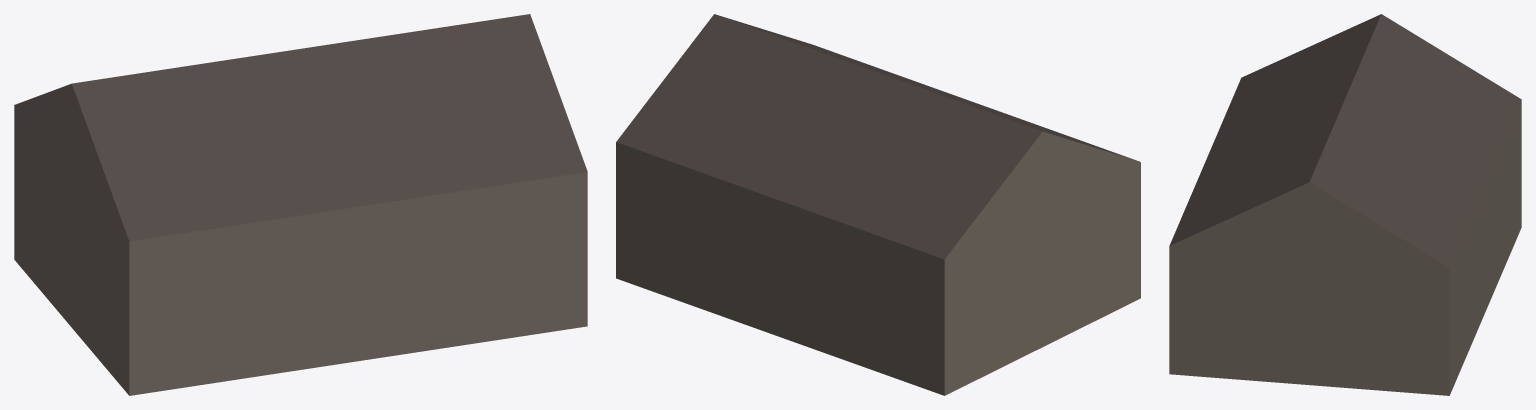
3 views of the same model, side by side, from view 1: azimuth 30°, elevation 25°; view 2: azimuth 150°, elevation 25°; view 3: azimuth 270°, elevation 25° (orthographic). The views are drawn at different scales.
Visible parts, largest first — view 1: HP-w859082503; view 2: HP-w859082503; view 3: HP-w859082503.
Boxes of the visible parts, bbox=[...] form: HP-w859082503: bbox=[14, 14, 587, 395]; HP-w859082503: bbox=[616, 14, 1140, 395]; HP-w859082503: bbox=[1169, 14, 1521, 395].
Bounding box in the file's own units: 19.05 × 9.48 × 14.92.
